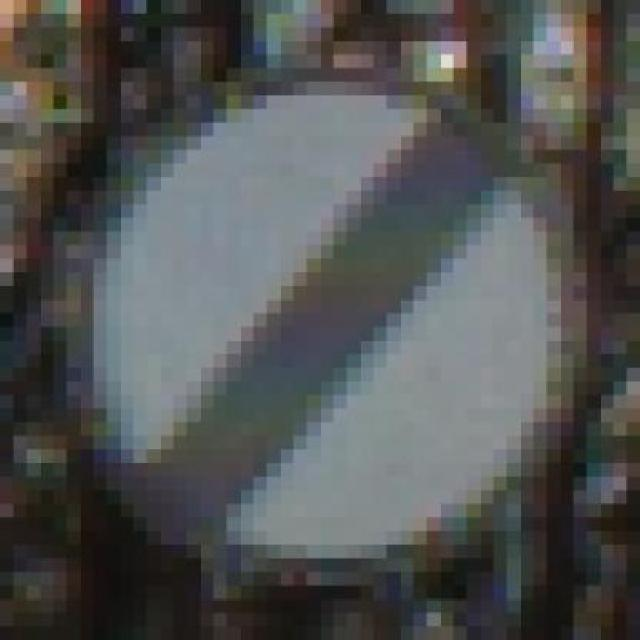End of all speed and passing limits: (53, 82, 601, 572)
